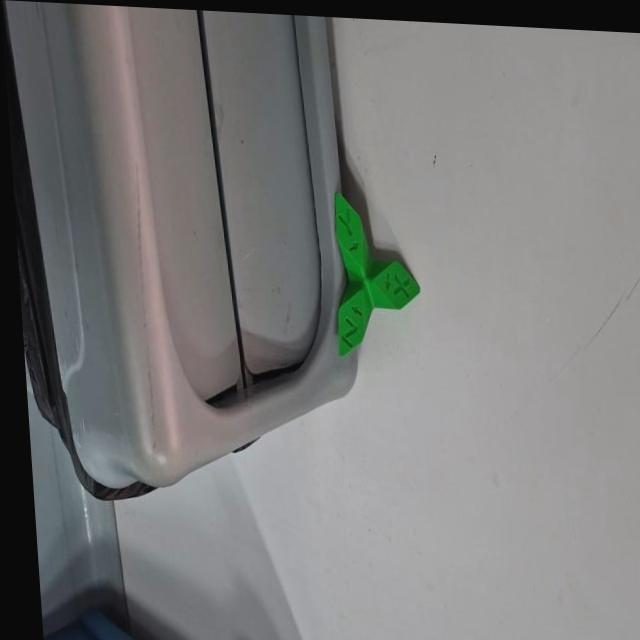eje: (326, 188, 425, 363)
